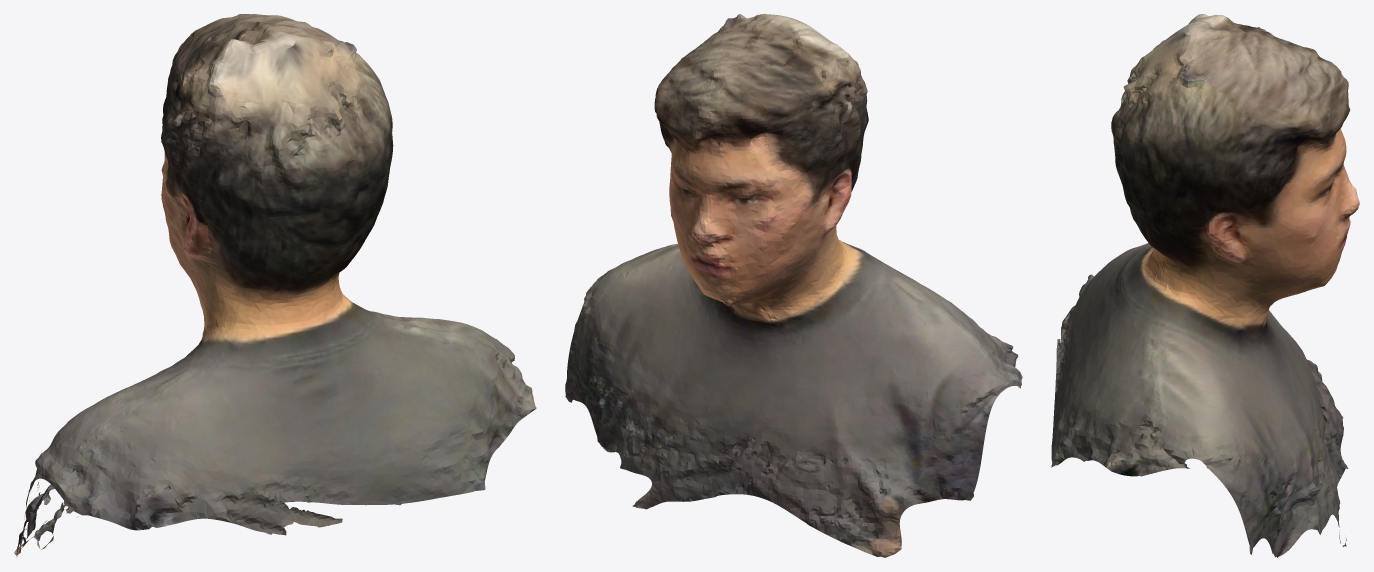
The picture shows the model from 3 angles, left to right: view 1: azimuth 30°, elevation 25°; view 2: azimuth 150°, elevation 25°; view 3: azimuth 270°, elevation 25°; orthographic projection. The views are drawn at different scales.
Size of the model in its own units: 0.4933 by 0.5304 by 0.3094.
1 material, 1 textured.
